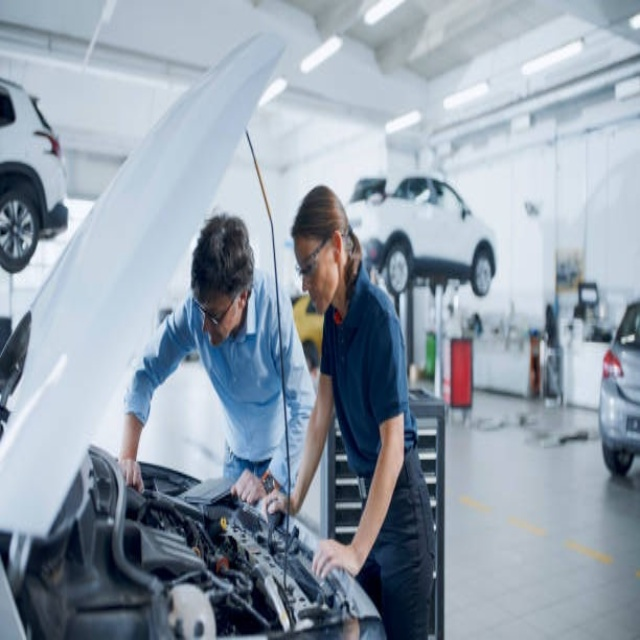Gafas: (293, 231, 337, 281), (193, 285, 244, 326)
Sin_guantes: (312, 532, 359, 582), (233, 467, 278, 510), (118, 456, 145, 493)
Sin_mascara: (305, 285, 326, 313), (202, 324, 223, 344)
